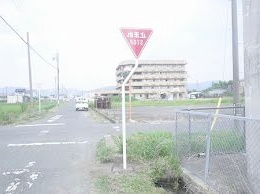Regulatory_sign_triangle: (118, 24, 154, 61)
